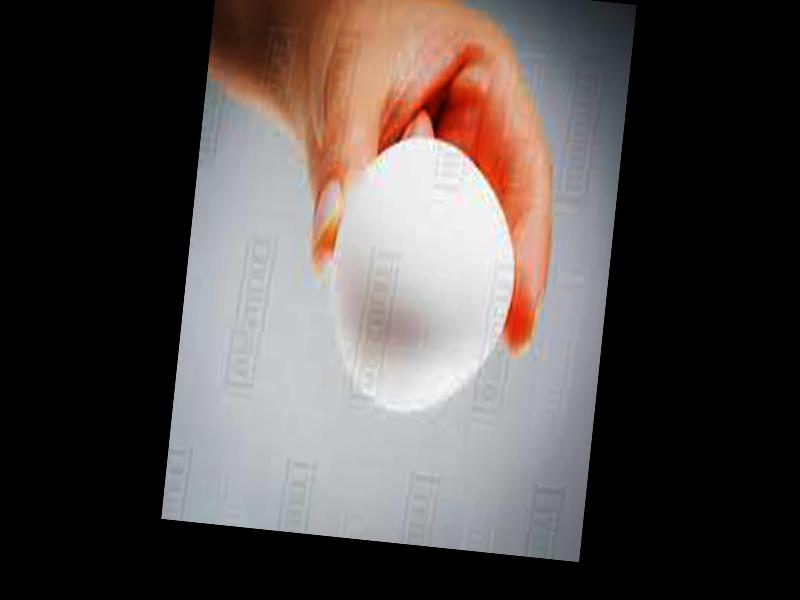Eggs: (319, 140, 528, 418)
